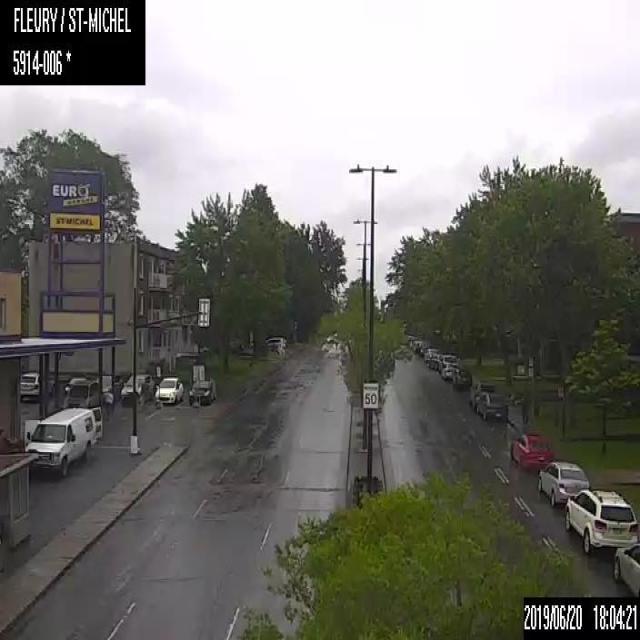pedestrian: (103, 386, 115, 422)
vehicle: (25, 404, 101, 475), (566, 485, 636, 554), (534, 456, 590, 506), (508, 431, 550, 468), (613, 538, 639, 596), (118, 370, 152, 405), (61, 375, 100, 405), (152, 375, 185, 405), (477, 394, 507, 420), (18, 368, 40, 400), (188, 378, 215, 404), (468, 382, 494, 407), (452, 369, 473, 388), (442, 362, 459, 379)
